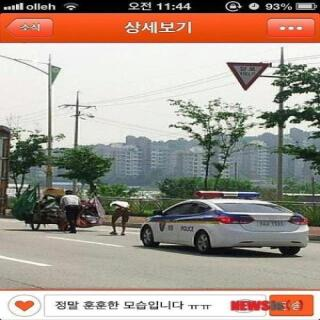Police_car: (139, 189, 311, 257)
